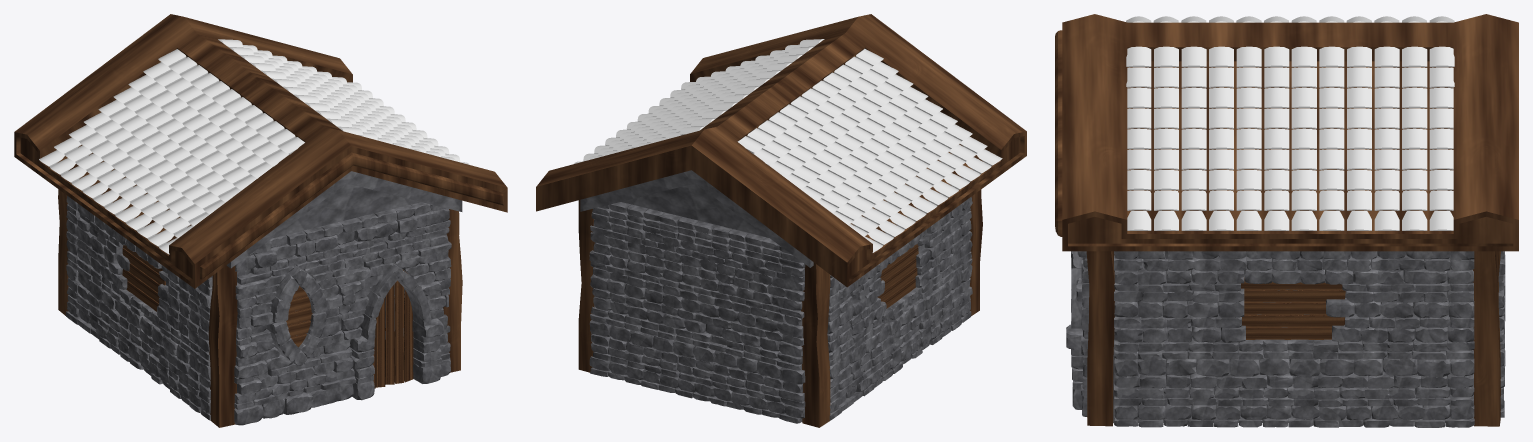
The model's file is VillageHouse1 1.fbx.
3 renders of one model, left to right at view 1: azimuth 30°, elevation 25°; view 2: azimuth 150°, elevation 25°; view 3: azimuth 270°, elevation 25°, orthographic. The views are drawn at different scales.
Visible parts, largest first — view 1: Wall.141, Plane, Cube.006, Cube.007, Cube.005, Cube.001, Cube.008, Cube.002, Cube.011, Cube.003, Cube.009; view 2: Wall.141, Plane, Cube.006, Cube.007, Cube.005, Cube.003, Cube.004, Cube.011, Cube.001; view 3: Wall.141, Plane, Cube.007, Cube.010, Cube.002, Cube.004, Cube.006, Cube.005.
Part boxes in pixels (x1=…): Wall.141: x1=65, y1=195, x2=451, y2=425; Plane: x1=14, y1=14, x2=507, y2=288; Cube.006: x1=39, y1=49, x2=304, y2=254; Cube.007: x1=218, y1=39, x2=469, y2=164; Cube.005: x1=166, y1=171, x2=462, y2=384; Cube.001: x1=208, y1=265, x2=237, y2=427; Cube.008: x1=372, y1=269, x2=413, y2=388; Cube.002: x1=443, y1=209, x2=462, y2=372; Cube.011: x1=122, y1=245, x2=165, y2=311; Cube.003: x1=58, y1=189, x2=68, y2=315; Cube.009: x1=286, y1=286, x2=312, y2=347; Wall.141: x1=589, y1=197, x2=972, y2=423; Plane: x1=536, y1=14, x2=1026, y2=287; Cube.006: x1=737, y1=48, x2=1002, y2=252; Cube.007: x1=573, y1=39, x2=824, y2=164; Cube.005: x1=580, y1=170, x2=924, y2=267; Cube.003: x1=801, y1=262, x2=830, y2=427; Cube.004: x1=578, y1=200, x2=594, y2=372; Cube.011: x1=877, y1=244, x2=918, y2=308; Cube.001: x1=970, y1=189, x2=982, y2=315; Wall.141: x1=1066, y1=251, x2=1505, y2=427; Plane: x1=1055, y1=14, x2=1518, y2=251; Cube.007: x1=1126, y1=46, x2=1454, y2=230; Cube.010: x1=1241, y1=278, x2=1345, y2=339; Cube.002: x1=1086, y1=251, x2=1114, y2=426; Cube.004: x1=1473, y1=251, x2=1500, y2=426; Cube.006: x1=1126, y1=16, x2=1454, y2=22; Cube.005: x1=1113, y1=251, x2=1450, y2=422.
Size of the model in its own units: 767 by 617 by 765.
